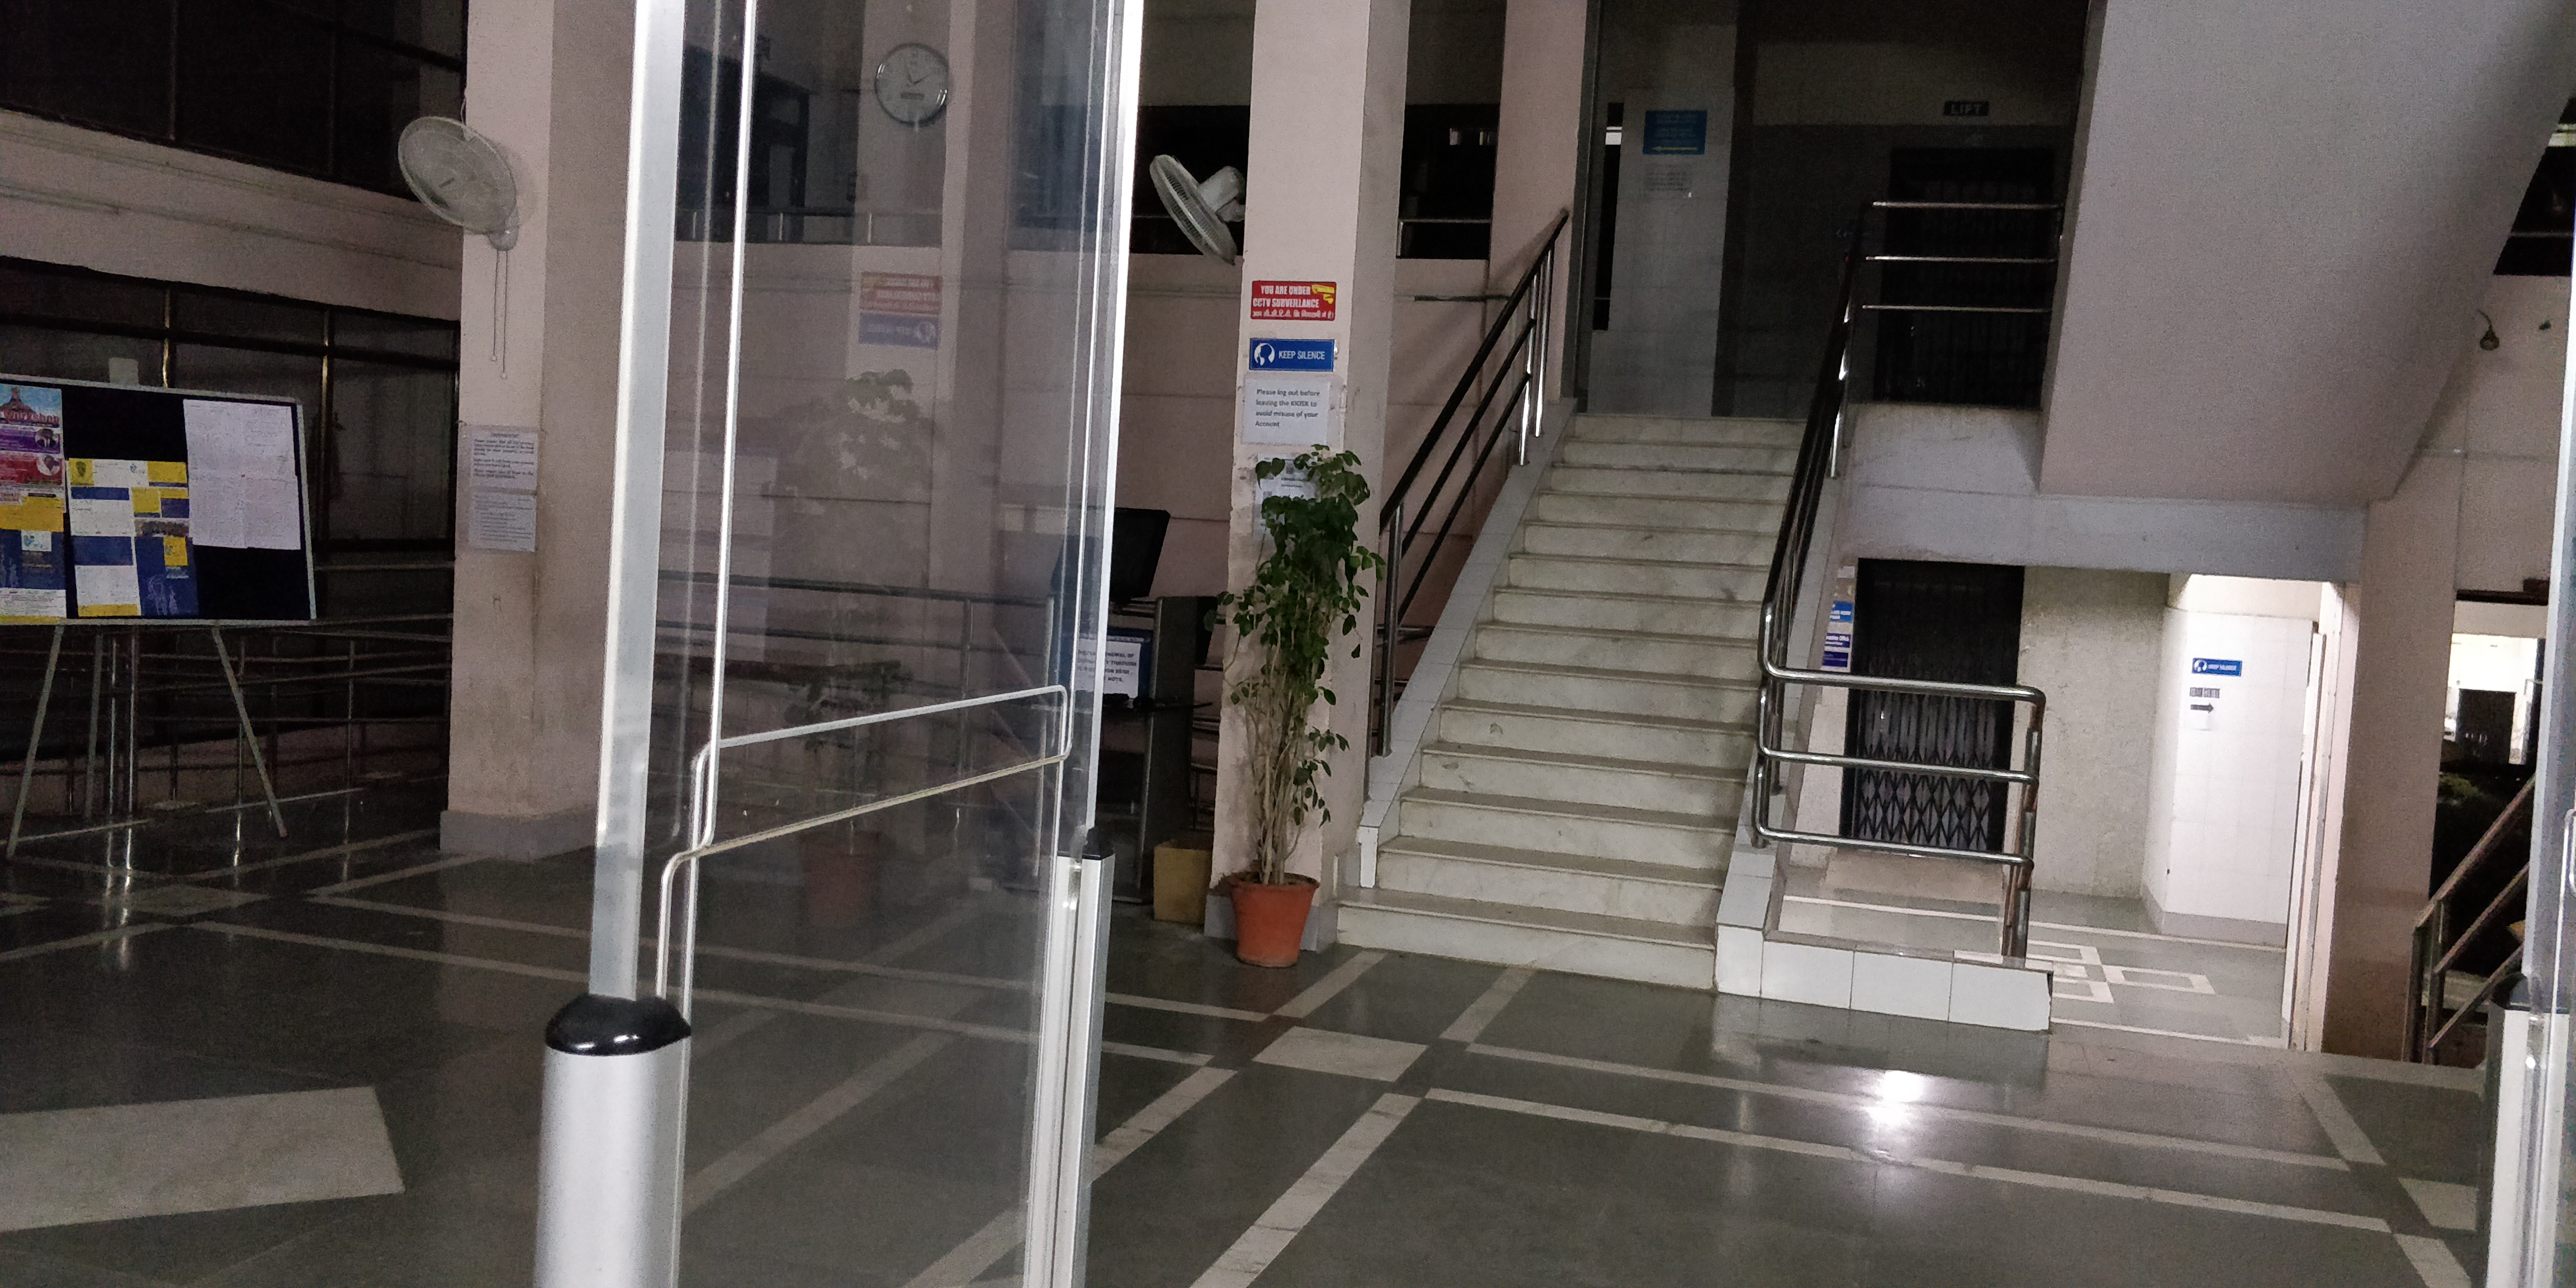stairs_up: (1334, 375, 1810, 1009)
